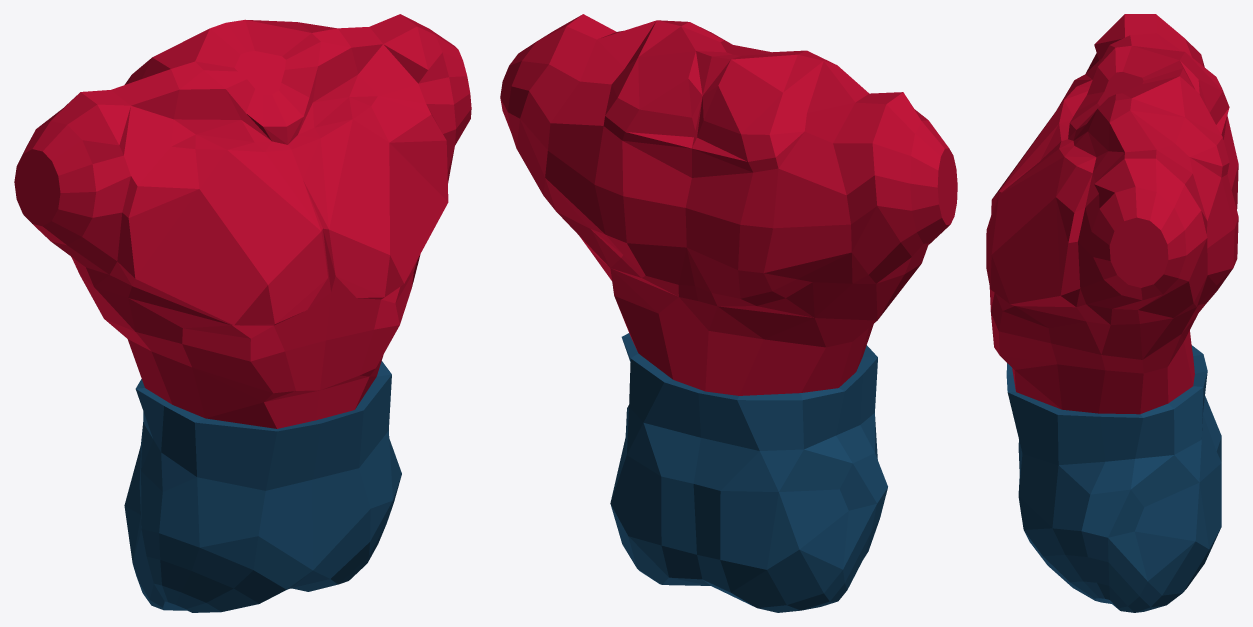
The model's file is body.fbx.
3 renders of one model, left to right at view 1: azimuth 30°, elevation 25°; view 2: azimuth 150°, elevation 25°; view 3: azimuth 270°, elevation 25°, orthographic. The views are drawn at different scales.
Parts seen in each view (by area): view 1: body; view 2: body; view 3: body.
Part boxes in pixels (left/top/right/bottom): body: left=14, top=14, right=471, bottom=612; body: left=500, top=14, right=957, bottom=612; body: left=986, top=14, right=1238, bottom=612.
Size of the model in its own units: 0.628 by 0.7479 by 0.3373.
